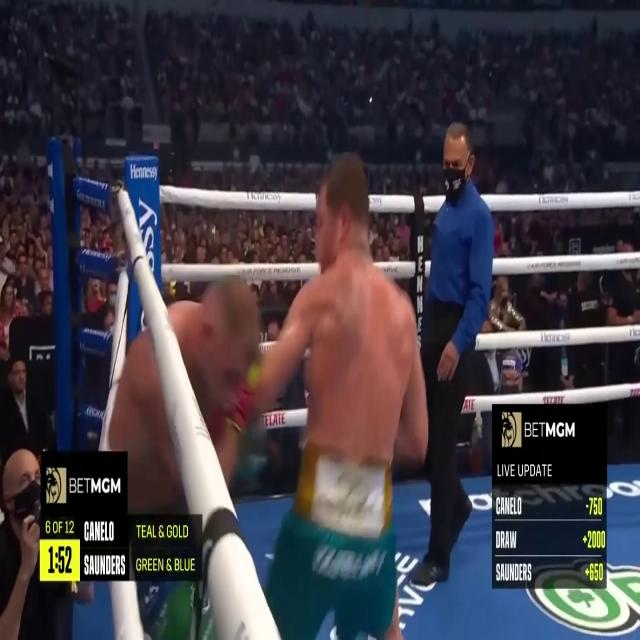boxer_1: (113, 282, 263, 515)
boxer_2: (304, 154, 416, 464)
gloves_1: (222, 361, 262, 434)
